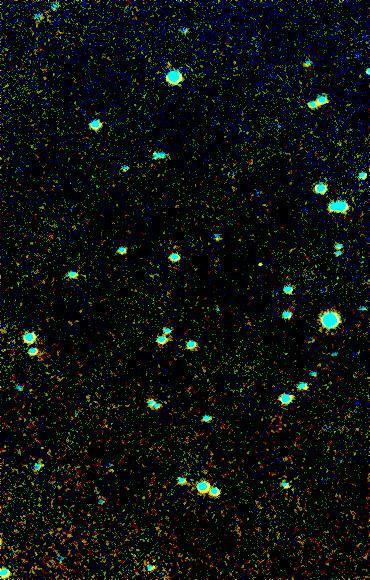star: (248, 245, 278, 275)
